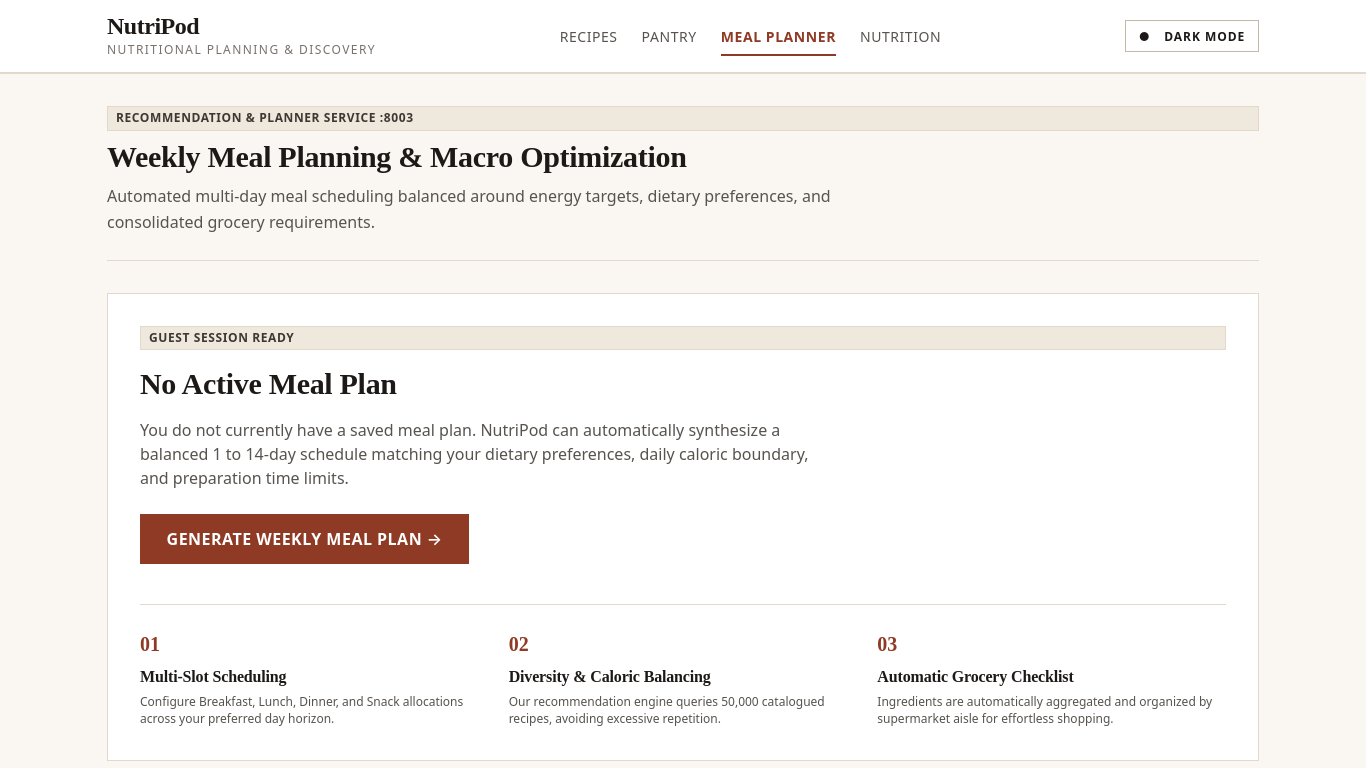
Test case: Weekly Meal Planner, Cooking Progress & Shopping List (Step 05.6) › 11. displays proposal preview with unpersisted warning banner
The image size is (1366, 768).
Step 1. Click the button with test id "create-plan-cta-btn" → (305, 539), box [140,514,469,564]
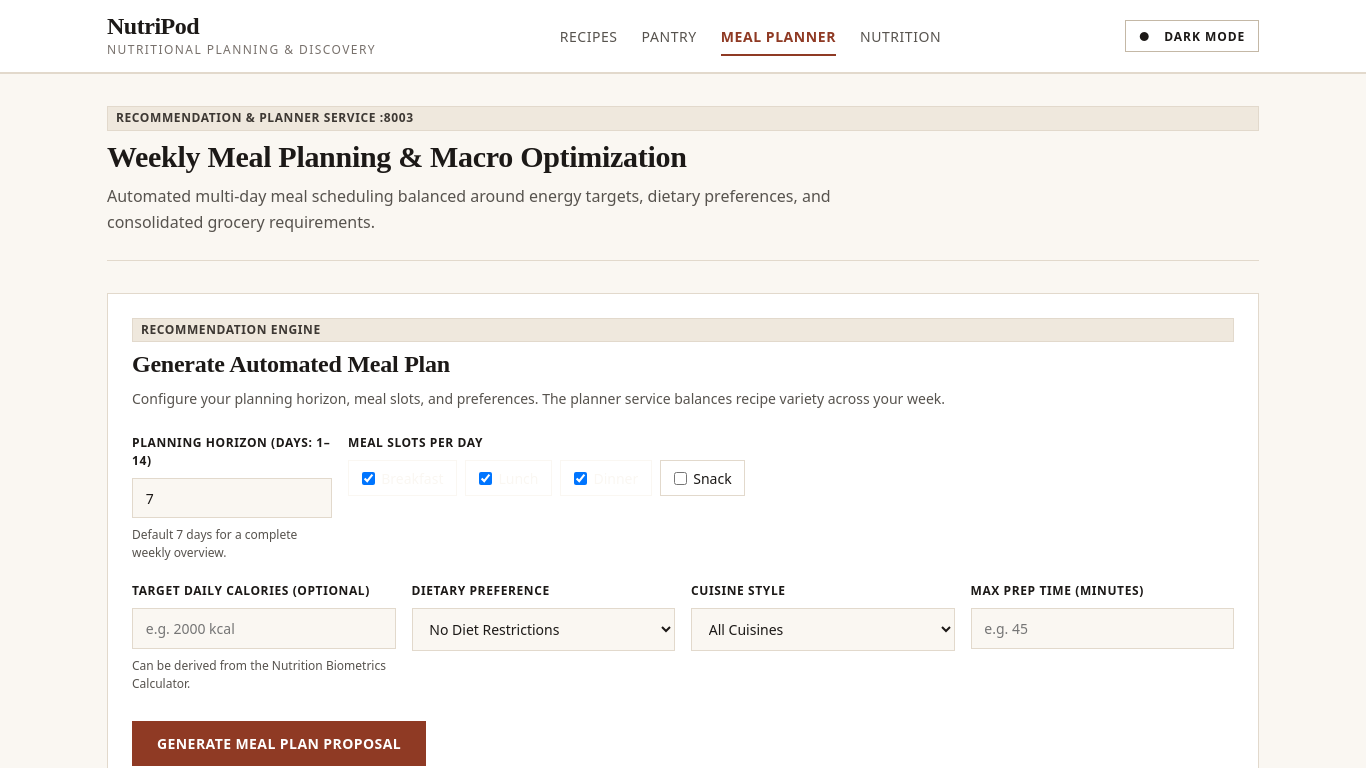
Step 2. Click the button with test id "submit-generate-plan-btn" → (279, 743), box [132,721,426,766]
(page scrolled)
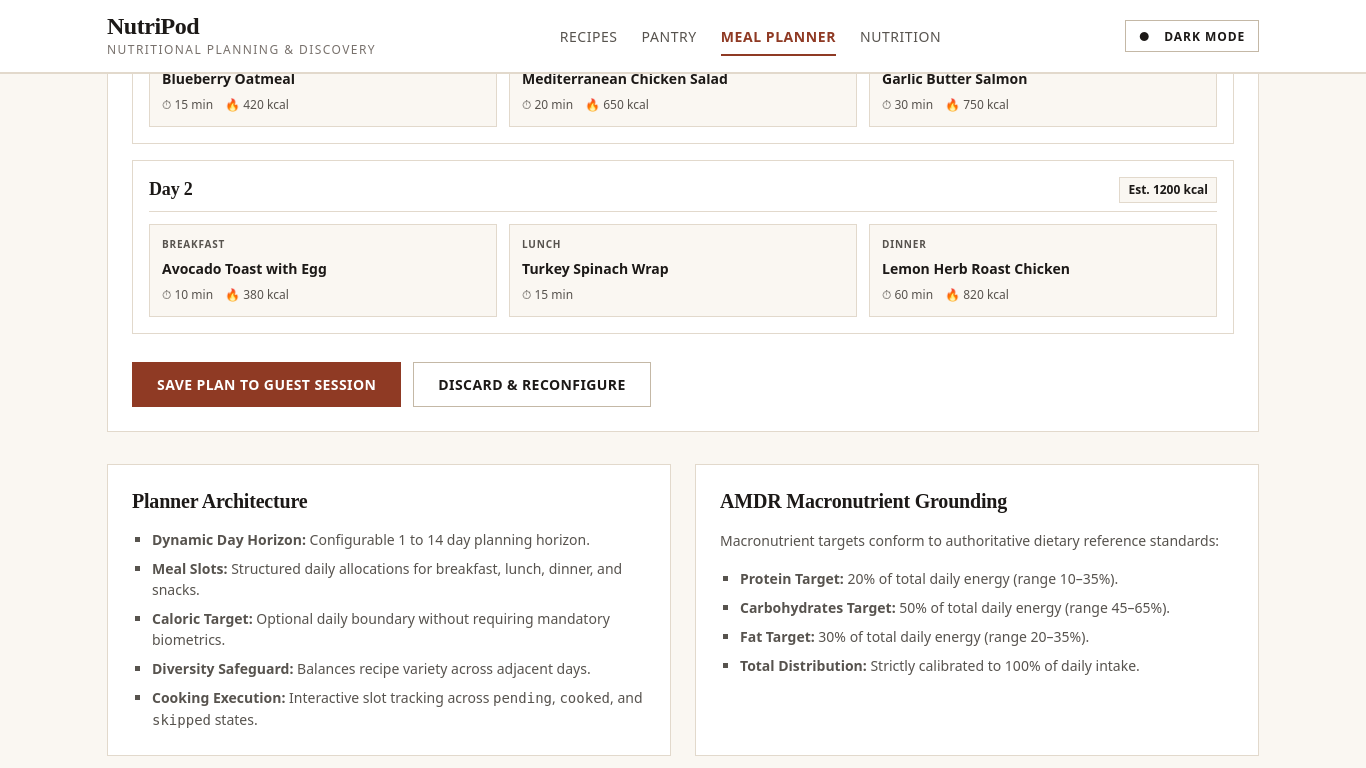
Now the element with test id "proposal-day-1" is shown, box [132,160,1234,334]
Now the button with test id "save-generated-plan-btn" is shown, box [132,362,401,407]
